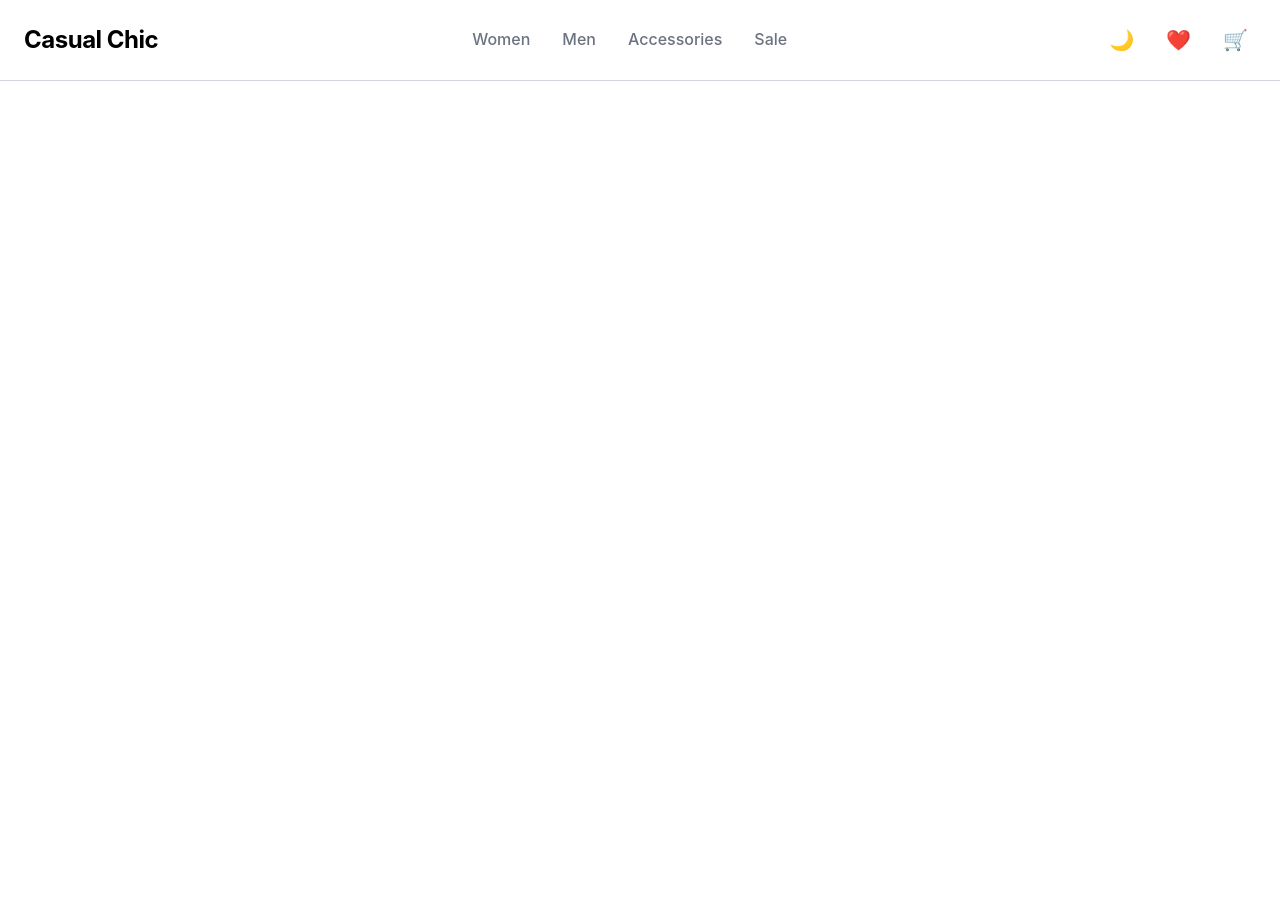
Test: Header with CartDrawer › opens cart drawer when cart icon clicked
The width and height of the screenshot is (1280, 900).
Click the button named "Cart": (1236, 40) left=1215, top=16, right=1256, bottom=64
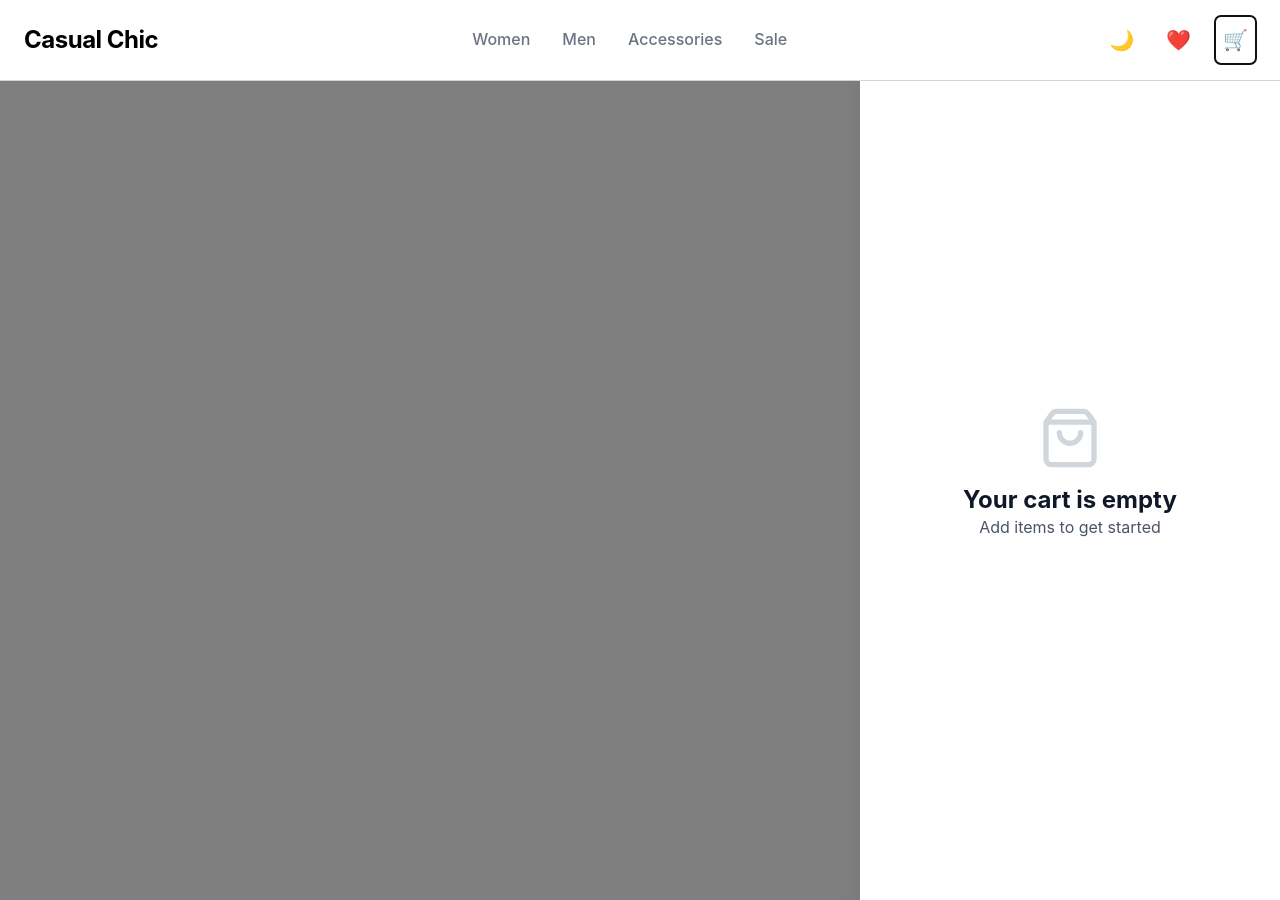
Expected: the heading "Shopping Cart" is shown, left=884, top=16, right=1109, bottom=54
Now the dialog is shown, box left=860, top=0, right=1279, bottom=899
